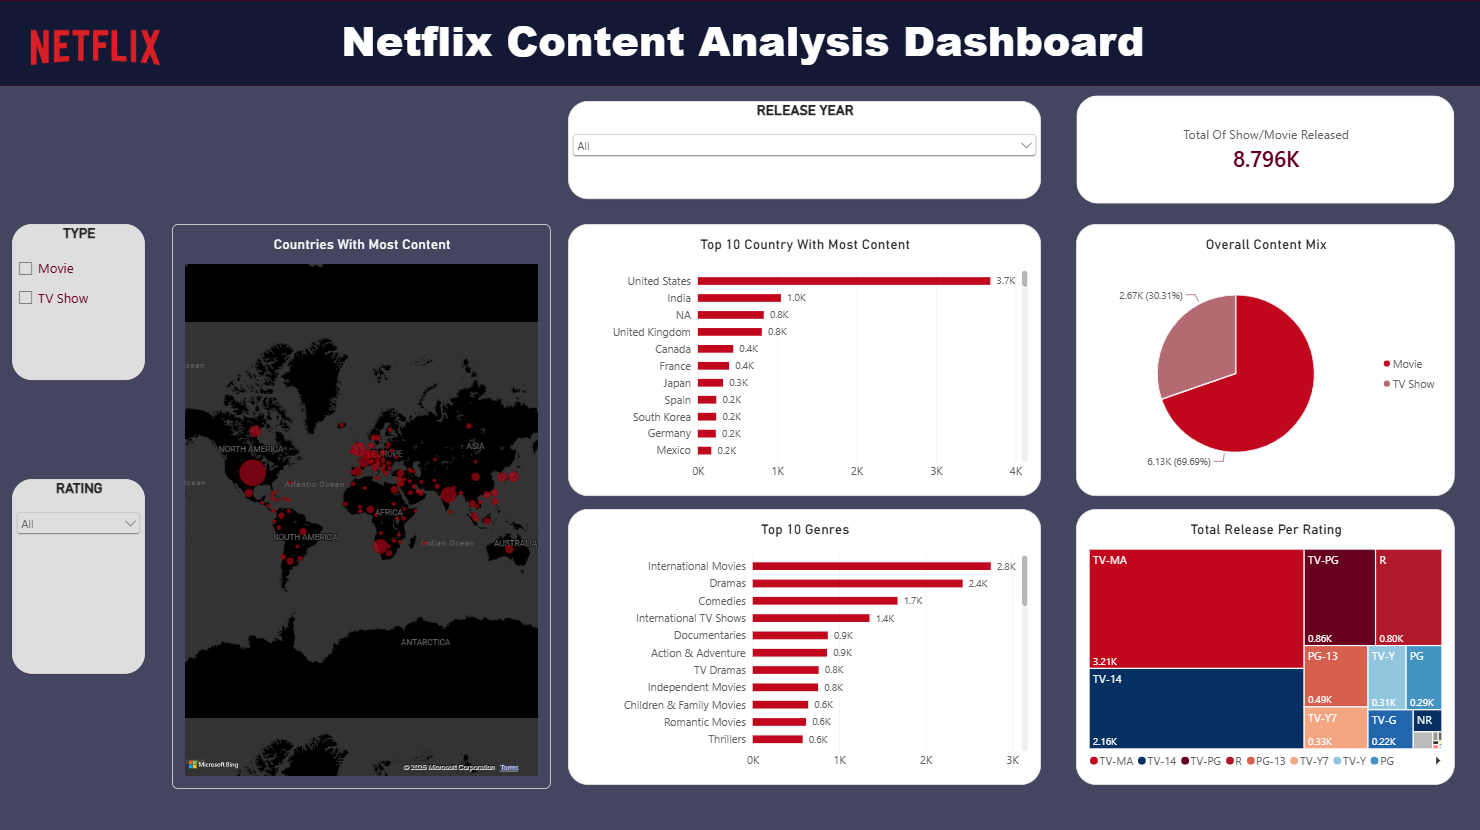

The dashboard page shown, as its layout file describes it:
{"tool":"powerbi","page":{"name":"Page 1","canvas":[1920,1080],"ordinal":0},"visuals":[{"type":"shape","box":[0,0,1920,1080.3],"z":0},{"type":"shape","box":[0,0,1920,111.3],"z":1000},{"type":"textbox","box":[10.4,12.9,1909.6,89.3],"z":2000},{"type":"image","box":[0,0,254.9,122.9],"z":3000},{"type":"pieChart","title":"Overall Content Mix","fields":{"Category":["netflix title_original.type"],"Y":["CountNonNull(netflix title_original.type)"]},"box":[1396,289.8,490.4,351.9],"z":4000},{"type":"clusteredBarChart","title":"Top 10 Country With Most Content","fields":{"Category":["netflix title_clean (1).country"],"Y":["CountNonNull(netflix title_clean (1).type)"]},"box":[738.8,289.8,612,351.9],"z":5000},{"type":"barChart","title":"Top 10 Genres","fields":{"Category":["netflix title_split listed in.listed_in"],"Y":["CountNonNull(netflix title_split listed in.type)"]},"box":[738.8,658.5,612,357.1],"z":5001},{"type":"treemap","title":"Total Release Per Rating","fields":{"Group":["netflix title_original.rating"],"Values":["CountNonNull(netflix title_original.rating)"]},"box":[1396,658.5,490.4,357.1],"z":5002},{"type":"map","title":"Countries With Most Content","fields":{"Category":["netflix title_split country.country"],"Size":["Count(netflix title_split country.show_id)"]},"box":[226.4,289.8,490.4,731],"z":5003},{"type":"cardVisual","fields":{"Data":["Count(netflix title_original.show_id)"]},"box":[1396,122.9,490.4,141],"z":5004},{"type":"slicer","title":"TYPE","fields":{"Values":["netflix title_original.type"]},"box":[19.4,289.8,172.1,201.8],"z":5005},{"type":"slicer","title":"RELEASE YEAR","fields":{"Values":["netflix title_original.release_year"]},"box":[738.8,130.7,612,126.8],"z":5006},{"type":"slicer","title":"RATING","fields":{"Values":["netflix title_original.rating"]},"box":[19.4,619.7,172.1,252.3],"z":5007}]}

Visuals, with their boxes in screenshot pixels (x1, y1, x2, y2), scaled from the page's 1920x1080 canvas onto the 1480x830 screenshot:
shape: (left=0, top=0, right=1479, bottom=829)
shape: (left=0, top=0, right=1479, bottom=86)
textbox: (left=8, top=10, right=1479, bottom=79)
image: (left=0, top=0, right=196, bottom=94)
"Overall Content Mix" pieChart: (left=1076, top=223, right=1454, bottom=493)
"Top 10 Country With Most Content" clusteredBarChart: (left=569, top=223, right=1041, bottom=493)
"Top 10 Genres" barChart: (left=569, top=506, right=1041, bottom=781)
"Total Release Per Rating" treemap: (left=1076, top=506, right=1454, bottom=781)
"Countries With Most Content" map: (left=175, top=223, right=553, bottom=785)
cardVisual - Count(netflix title_original.show_id): (left=1076, top=94, right=1454, bottom=203)
"TYPE" slicer: (left=15, top=223, right=148, bottom=378)
"RELEASE YEAR" slicer: (left=569, top=100, right=1041, bottom=198)
"RATING" slicer: (left=15, top=476, right=148, bottom=670)
